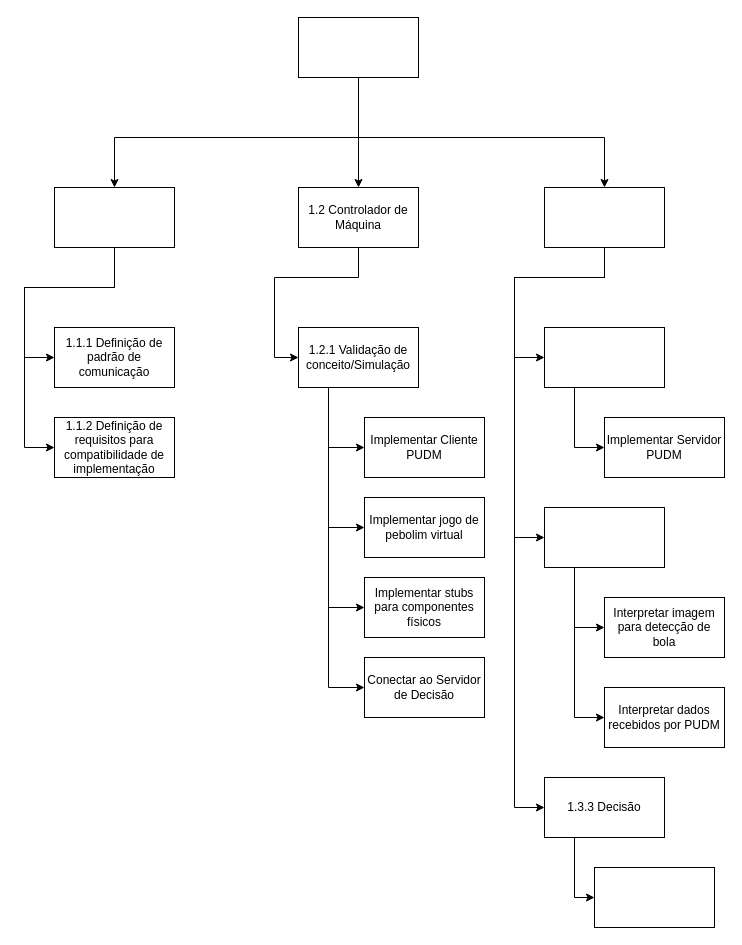
The diagram is 742 pixels wide and 945 high, and some of its shapes have lost their labels. Each missing label, with the box of its shape:
1.0 Software para Mesa de Pebolim para Treinamento: (298, 16, 418, 78)
1.1 PUDM: (54, 186, 174, 248)
1.3 Servidor de Decisão: (544, 186, 664, 248)
1.3.1 Comunicação: (544, 326, 664, 388)
1.3.2 Interpretação: (544, 506, 664, 568)
Decidir ação adequada para o jogo: (594, 866, 714, 928)
